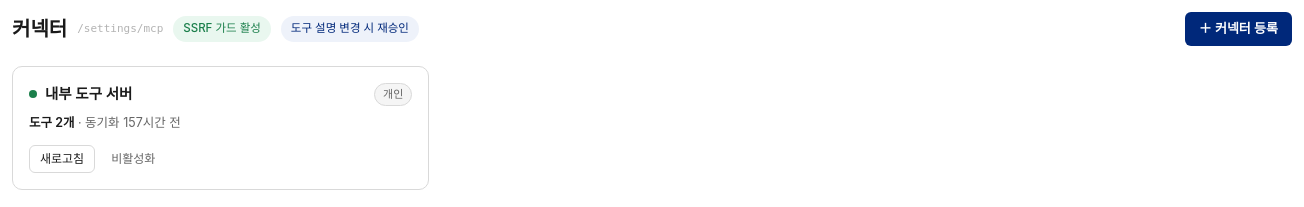
Test case: McpServersManager › 비활성화 버튼으로 커넥터를 제거한다
This screenshot has width=1304, height=207.
Expected: the text "내부 도구 서버" is shown, [45,83,132,105]
Click the button "비활성화".
click(133, 158)  # box [101,144,165,172]
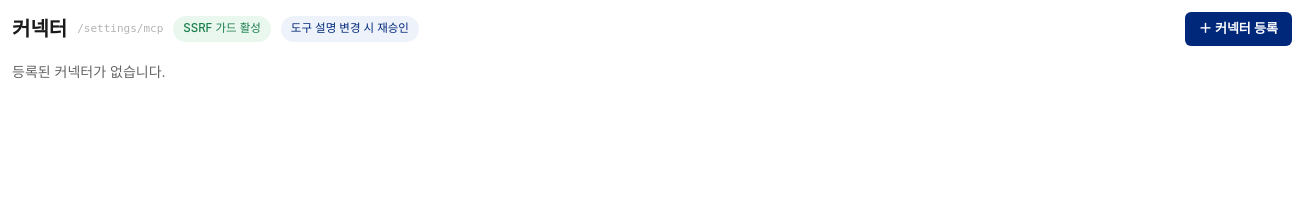
Now the text "등록된 커넥터가 없습니다." is shown, box [12,63,166,80]
